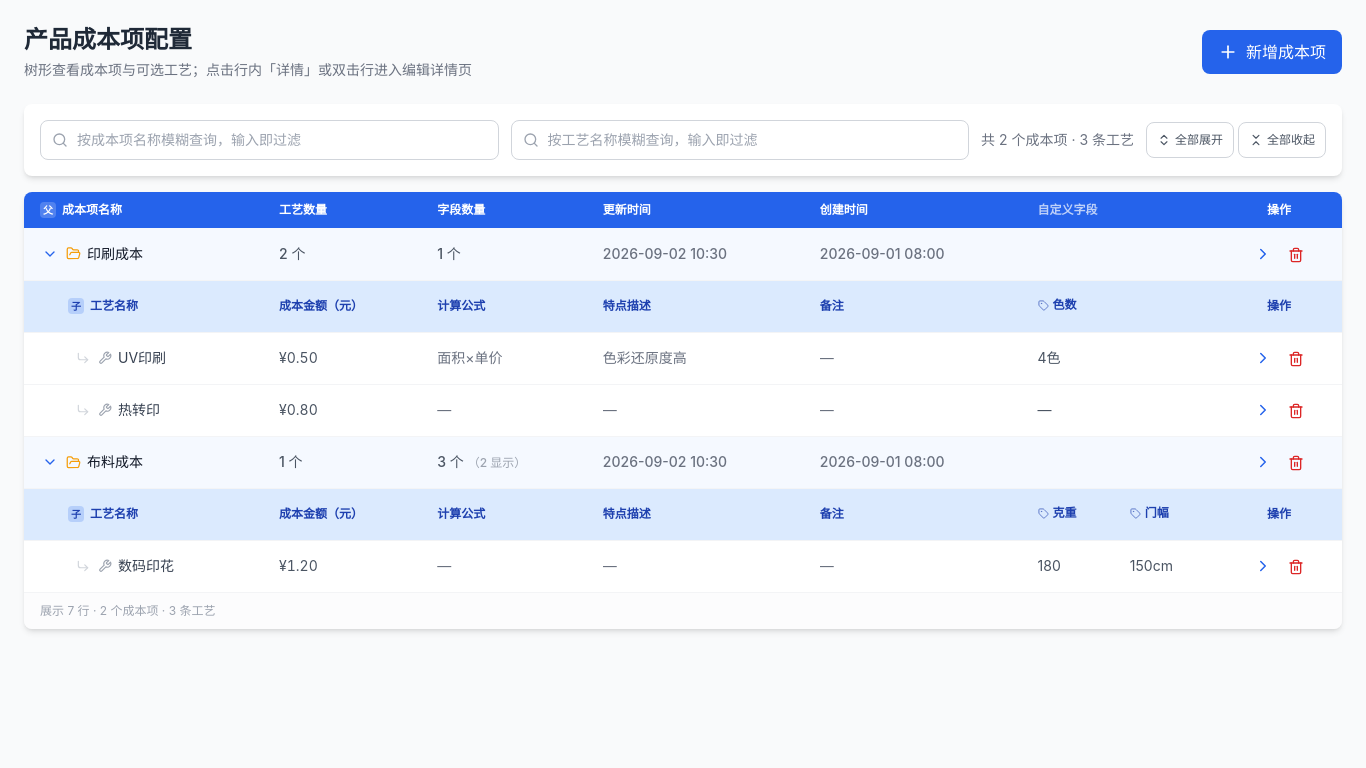
Scenario: 列表查询页 - 模糊查询（实时响应） › 统计反馈：默认总量 / 查询时命中量（含原始总量）
This screenshot has width=1366, height=768.
Check: the text "UV印刷" is shown, box [118,348,166,368]
Check: the text with test id "query-stats" shows "共 2 个成本项", box [981,130,1134,150]
Type "uv" into the field labelled "按工艺名称模糊查询". click: (740, 140)
box: [510,120,969,160]
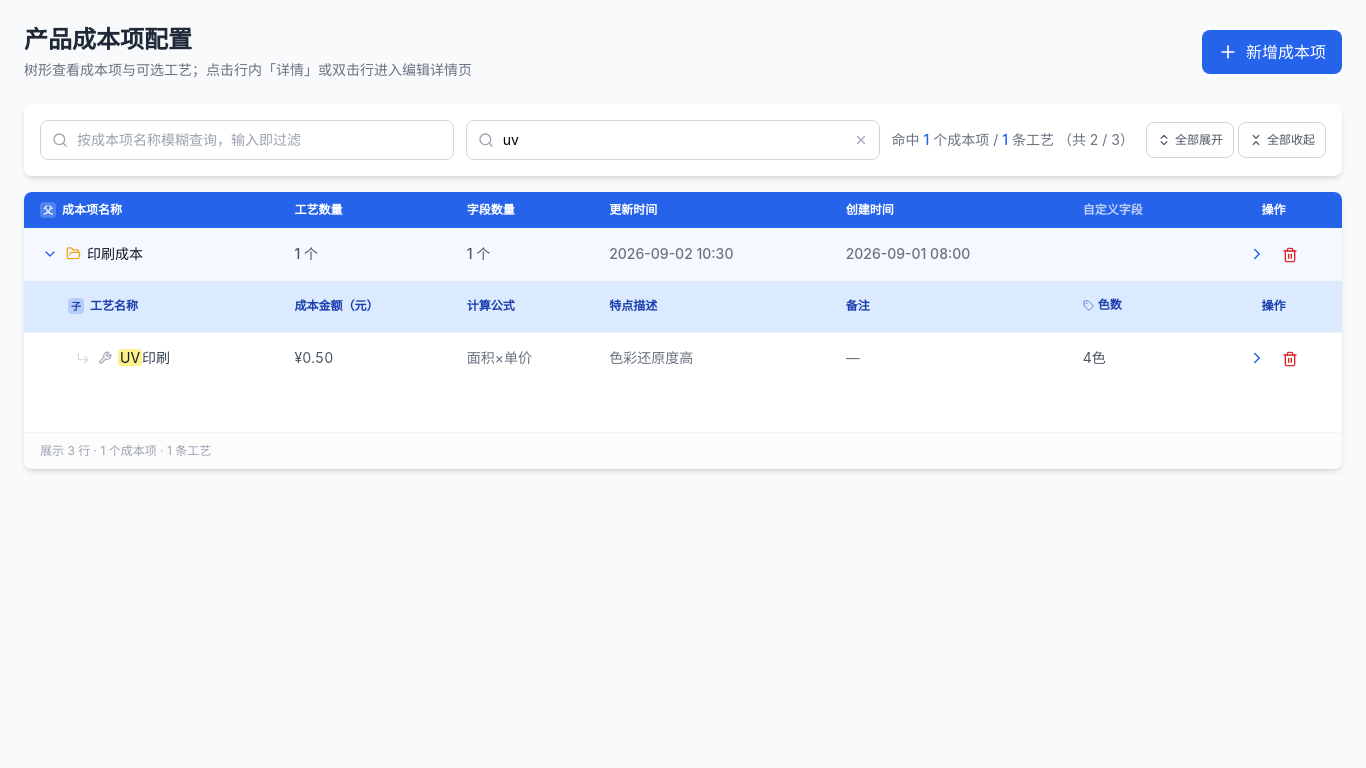
Check: the element with test id "query-stats" shows "命中 1 个成本项", box [892,130,1134,150]
Check: the element with test id "query-stats" shows "1 条工艺", box [892,130,1134,150]
Check: the element with test id "query-stats" shows "2 / 3", box [892,130,1134,150]
